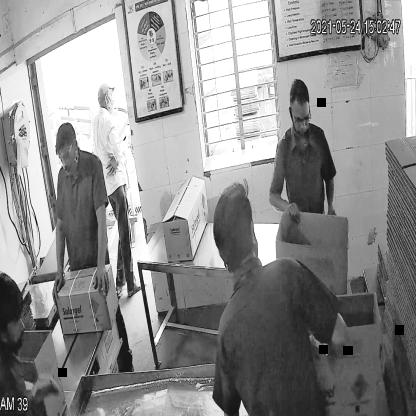goggles: (55, 145, 76, 167)
